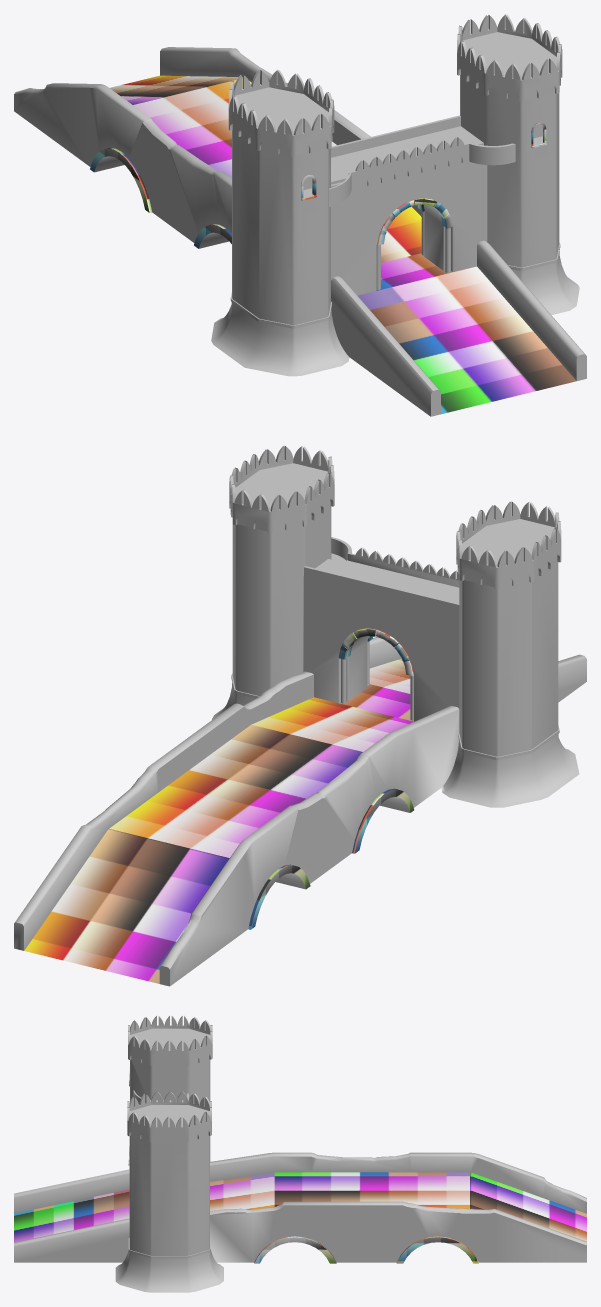
File: MedievalBridge.gltf
3 renders of one model, top to bottom at view 1: azimuth 30°, elevation 25°; view 2: azimuth 150°, elevation 25°; view 3: azimuth 270°, elevation 25°, orthographic. The views are drawn at different scales.
Parts seen in each view (by area): view 1: Sketchup.003, Sketchup.001, Sketchup, Sketchup.002; view 2: Sketchup.003, Sketchup.001, Sketchup, Sketchup.002; view 3: Sketchup, Sketchup.003, Sketchup.001, Sketchup.002.
Boxes of the visible parts, x1,y1,x2,y2 form: Sketchup.003: (94,32,579,376); Sketchup.001: (90,75,576,414); Sketchup: (14,47,586,416); Sketchup.002: (228,14,562,328); Sketchup.003: (212,463,579,889); Sketchup.001: (24,628,414,983); Sketchup: (14,637,586,986); Sketchup.002: (229,446,561,760); Sketchup: (14,1152,586,1262); Sketchup.003: (115,1028,223,1292); Sketchup.001: (14,1067,586,1263); Sketchup.002: (127,1016,212,1258).
Size of the model in its own units: 155 by 109 by 334.
